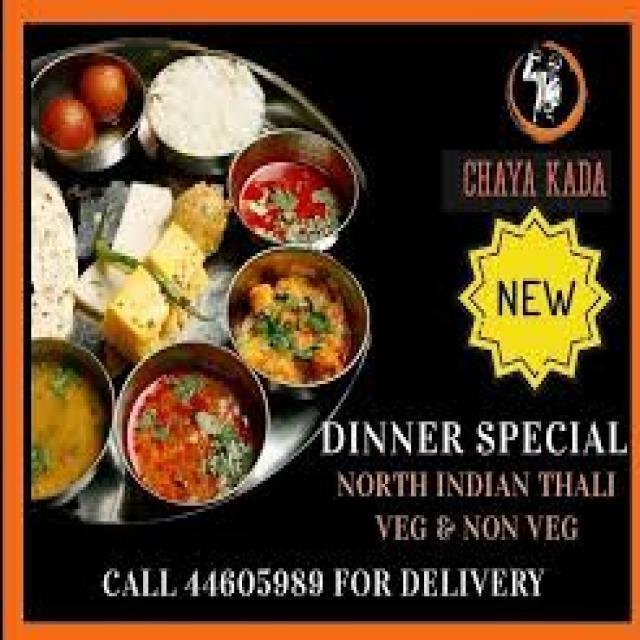papad: (79, 190, 221, 345), (30, 163, 85, 346), (176, 182, 234, 257)
rice: (142, 47, 265, 162)
sweet: (237, 129, 355, 249), (36, 54, 137, 166)
veg-fry: (117, 347, 267, 510)
